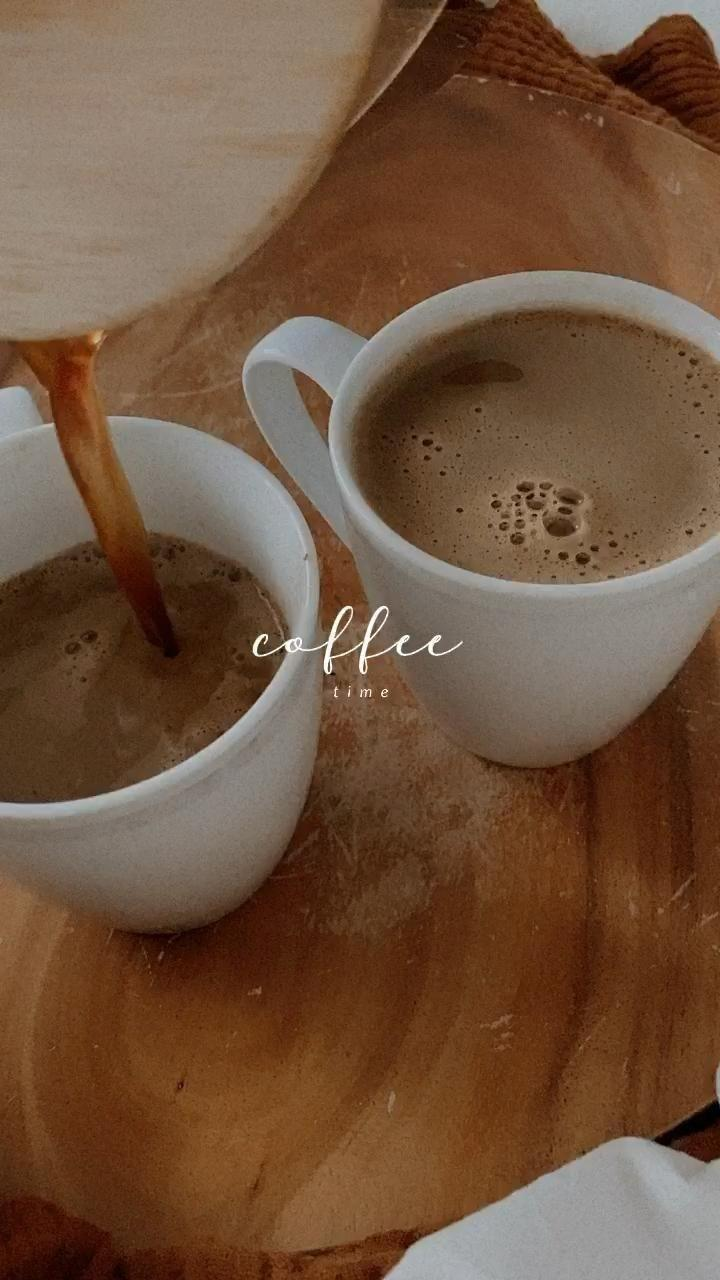cup-handle: (238, 266, 719, 771), (1, 386, 328, 939)
